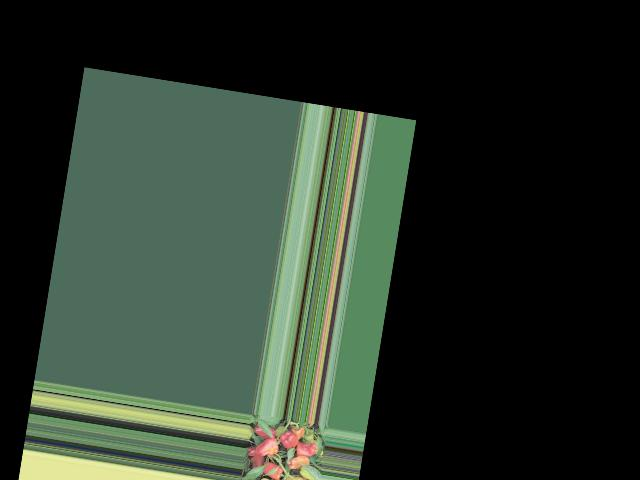bell_pepper: (293, 424, 305, 439)
